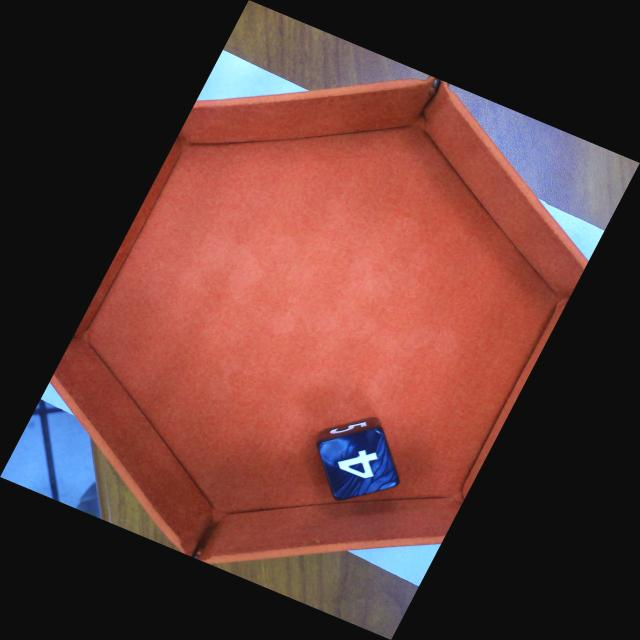dice: (320, 432, 399, 501)
